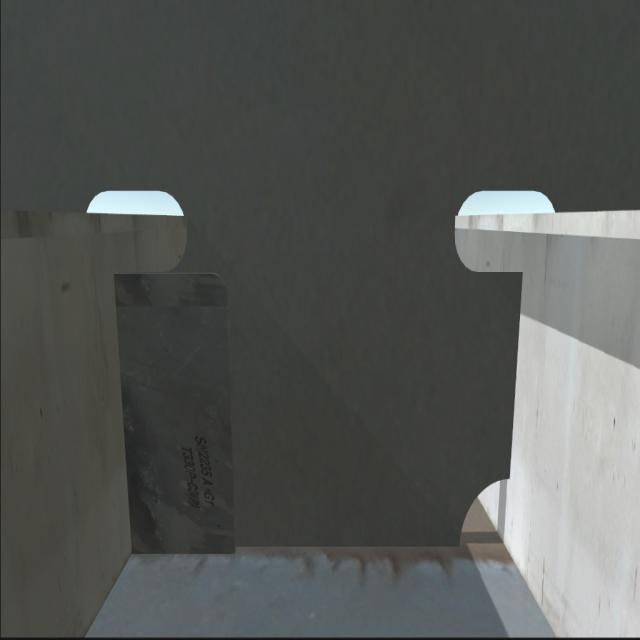fillet_hole: (456, 475, 512, 550)
fillet_yong_jeop_jang: (124, 534, 478, 569)
longi_yong_jeop_jang: (107, 262, 141, 567), (507, 260, 528, 484)
plate_CP05: (113, 273, 240, 555)
